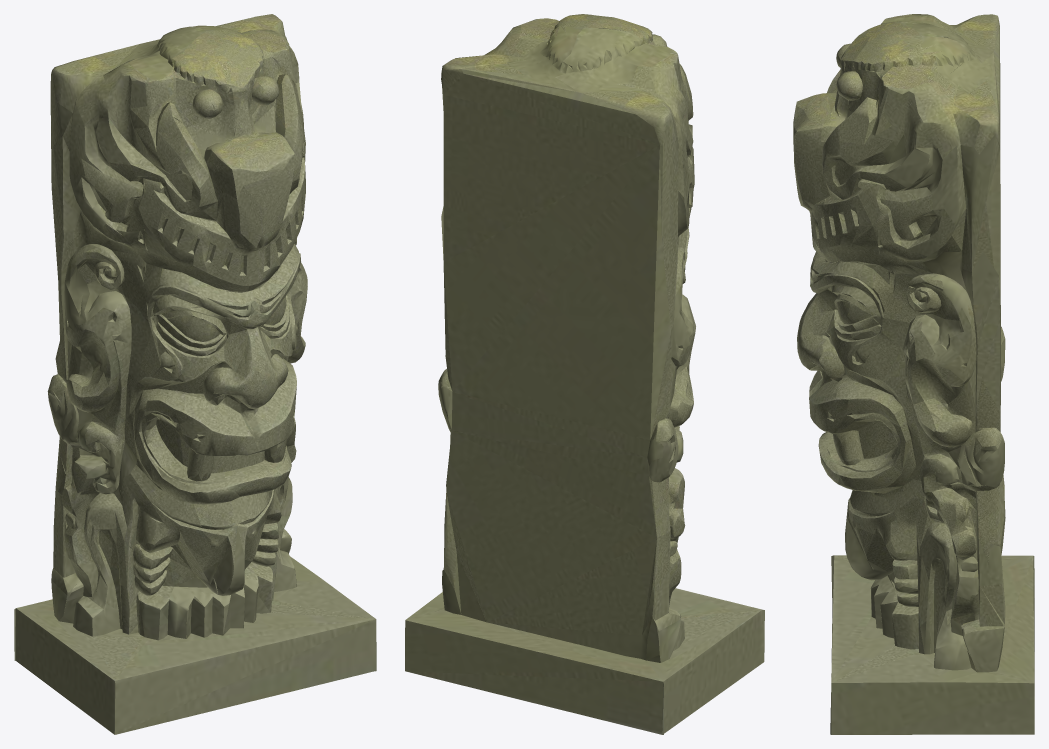
The model's file is totem-selvagem.glb.
3 views of the same model, side by side, from view 1: azimuth 30°, elevation 25°; view 2: azimuth 150°, elevation 25°; view 3: azimuth 270°, elevation 25° (orthographic).
Parts seen in each view (by area): view 1: totem-selvagem; view 2: totem-selvagem; view 3: totem-selvagem.
Part boxes in pixels (<box>): totem-selvagem: <box>14,14,376,734</box>; totem-selvagem: <box>405,14,764,734</box>; totem-selvagem: <box>793,14,1034,734</box>.
Bounding box in the file's own units: 1.37 × 3.2 × 1.1.
Materials: 1 (1 with a texture image).
